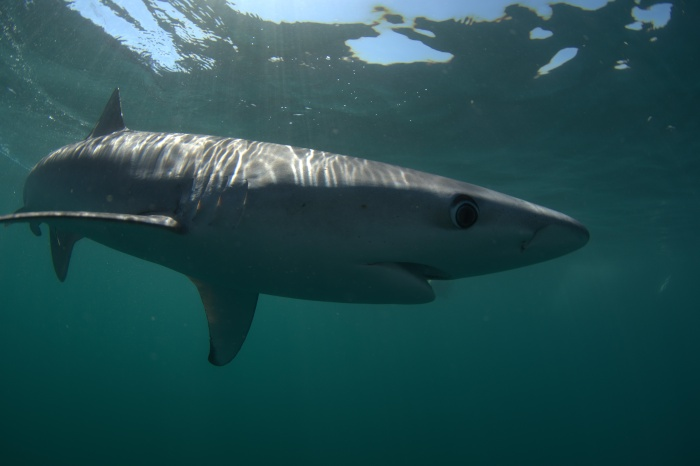Azul: (1, 78, 609, 372)
